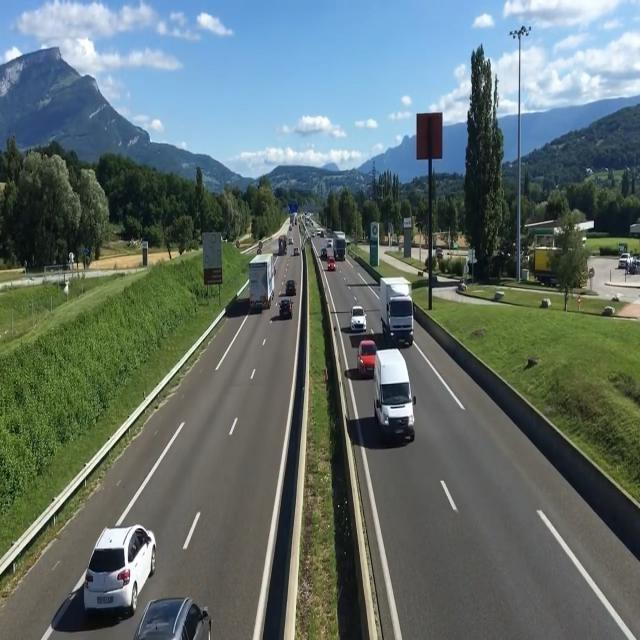Car: (68, 500, 174, 610), (127, 586, 228, 640), (352, 335, 383, 371), (346, 300, 371, 334), (277, 293, 293, 322), (284, 273, 298, 300), (324, 255, 340, 273), (292, 245, 300, 261), (320, 246, 328, 260)
Truck: (378, 270, 425, 344), (241, 248, 275, 314), (330, 232, 352, 262)
Van: (364, 342, 423, 444)
